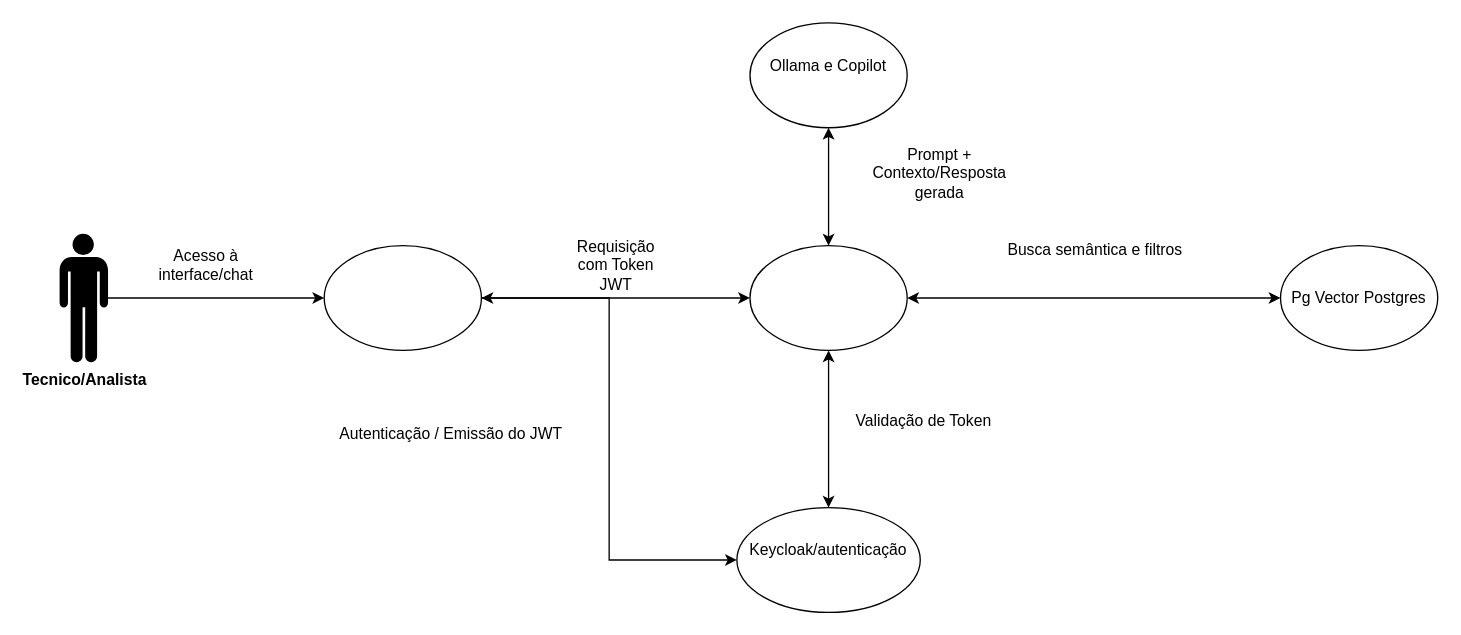
This 1461x635 diagram has some shape labels left out. Here are the shapes that lost their labels. From the top down, the centre of each, then its label:
At (x=402, y=297): "Front-end".
At (x=828, y=297): "Back-end".
